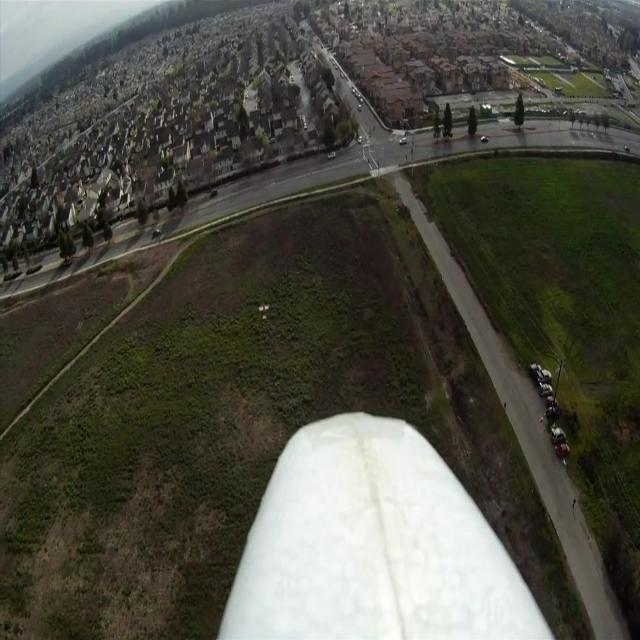iha: (254, 302, 259, 320)
